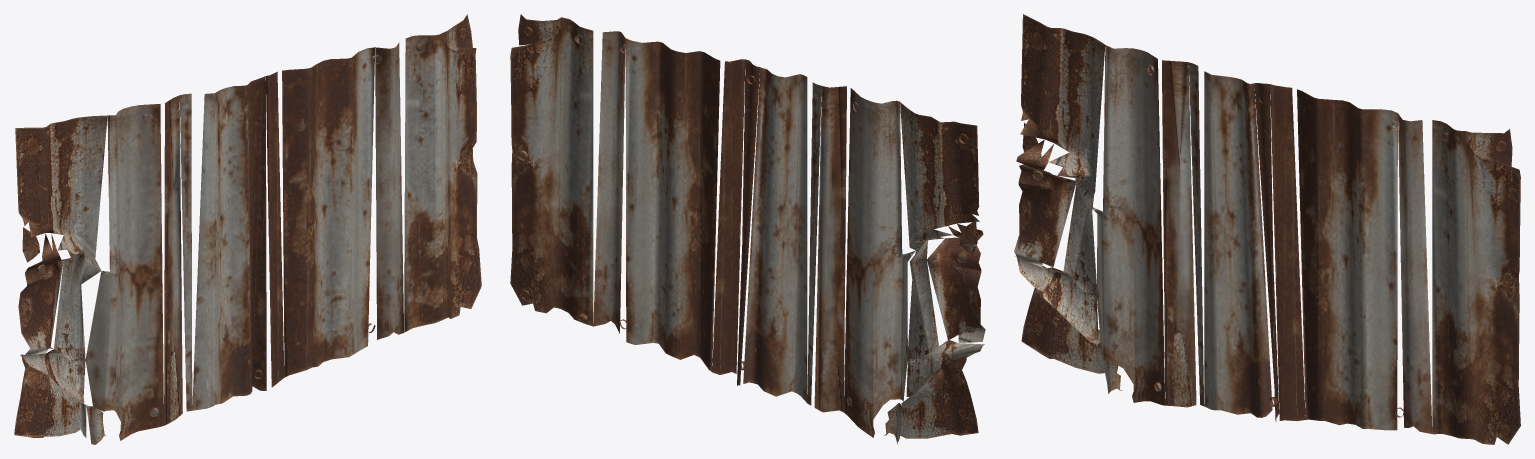
Rendered from Meshy_AI_Rusty_Corrugated_Metal_Sheet_20261028_texture.fbx.
3 views of the same model, side by side, from view 1: azimuth 30°, elevation 25°; view 2: azimuth 150°, elevation 25°; view 3: azimuth 330°, elevation 25° (orthographic). The views are drawn at different scales.
Parts seen in each view (by area): view 1: Mesh_0; view 2: Mesh_0; view 3: Mesh_0.
Part boxes in pixels (bbox=[...]): Mesh_0: bbox=[14, 14, 481, 444]; Mesh_0: bbox=[510, 14, 985, 444]; Mesh_0: bbox=[1014, 14, 1520, 444].
Bounding box in the file's own units: 96.24 × 66.8 × 8.54.
Materials: 1 (1 with a texture image).
